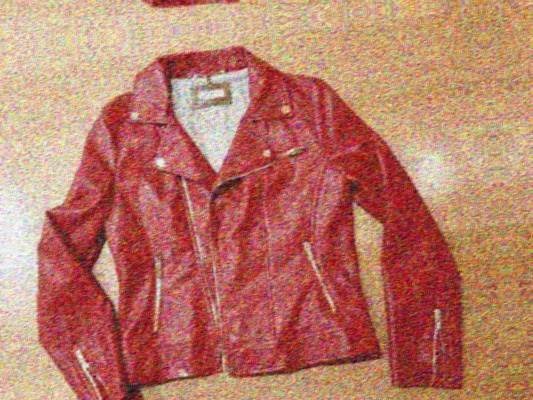Blazer: (0, 28, 483, 400), (0, 0, 443, 25), (519, 0, 533, 390)
